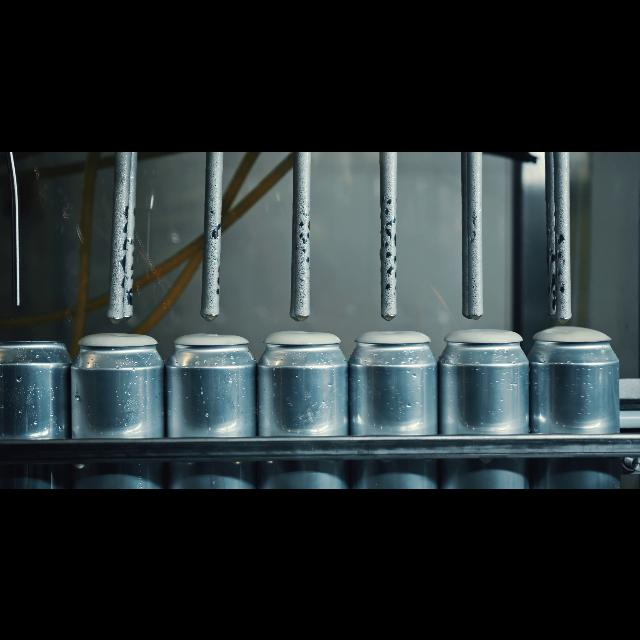empty: (1, 328, 72, 488)
full: (160, 329, 260, 489), (433, 326, 531, 488), (532, 324, 628, 488), (72, 328, 164, 488), (260, 329, 348, 488), (350, 328, 434, 488)
